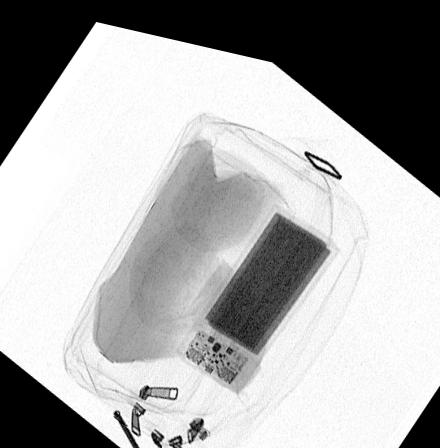Powerbank: (174, 192, 337, 383)
